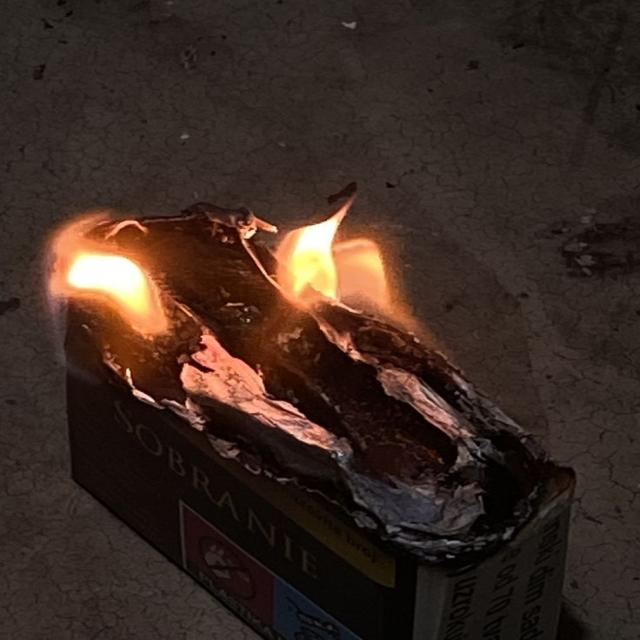fire: (271, 200, 351, 298), (64, 252, 155, 319)
